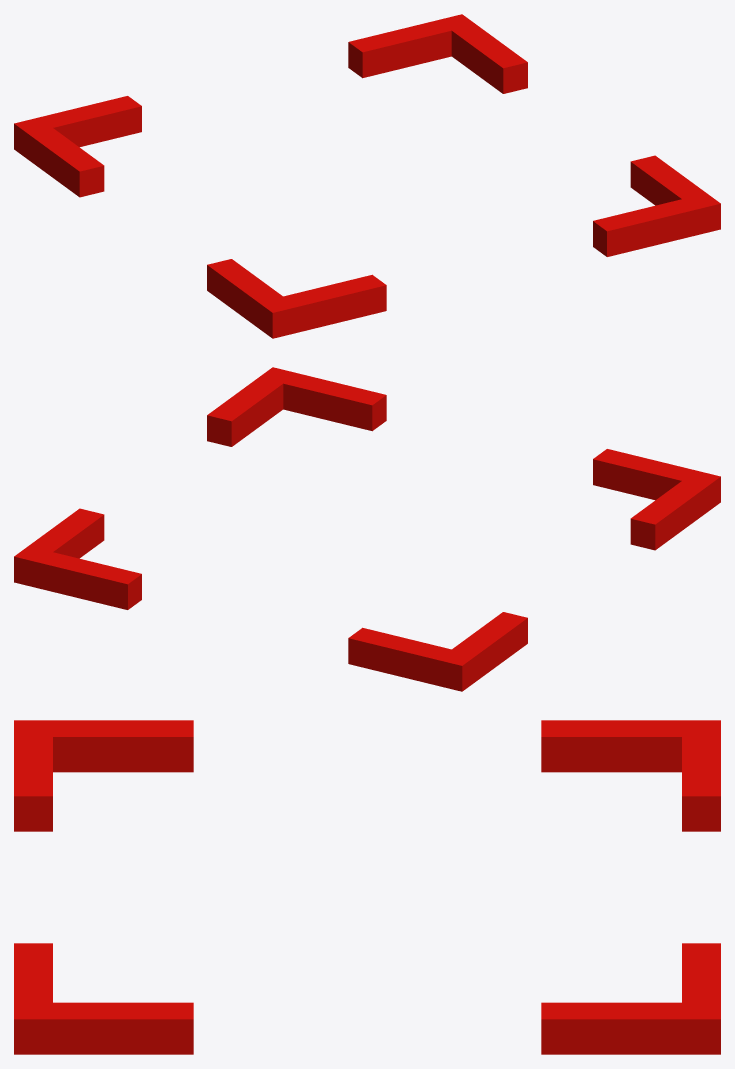
Rendered from target.gltf.
3 views of the same model, one above another, from view 1: azimuth 30°, elevation 25°; view 2: azimuth 150°, elevation 25°; view 3: azimuth 270°, elevation 25° (orthographic). The views are drawn at different scales.
Visible parts, largest first — view 1: Cube.001, Cube.003, Cube, Cube.002; view 2: Cube, Cube.002, Cube.001, Cube.003; view 3: Cube, Cube.001, Cube.002, Cube.003.
Boxes of the visible parts, box(x1,y1,x2,y2) form: Cube.001: box(207, 259, 386, 338); Cube.003: box(348, 14, 527, 93); Cube: box(14, 96, 141, 197); Cube.002: box(593, 155, 720, 256); Cube: box(348, 612, 527, 691); Cube.002: box(207, 367, 386, 446); Cube.001: box(593, 449, 720, 550); Cube.003: box(14, 508, 141, 609); Cube: box(541, 720, 720, 831); Cube.001: box(14, 720, 193, 831); Cube.002: box(14, 943, 193, 1054); Cube.003: box(541, 943, 720, 1054).
Bounding box in the file's own units: 4.02 × 0.2217 × 4.02.
